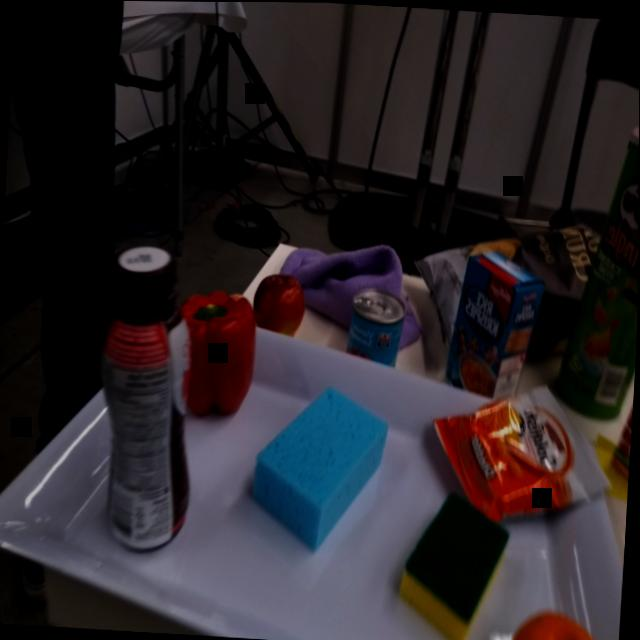apple: (251, 268, 308, 338)
cereal: (441, 245, 550, 401)
chocolate_drink: (81, 238, 209, 557)
crackers: (424, 375, 620, 534)
sausages: (346, 283, 409, 366)
scrubby: (393, 484, 513, 640)
sponge_opl: (246, 377, 395, 560)
